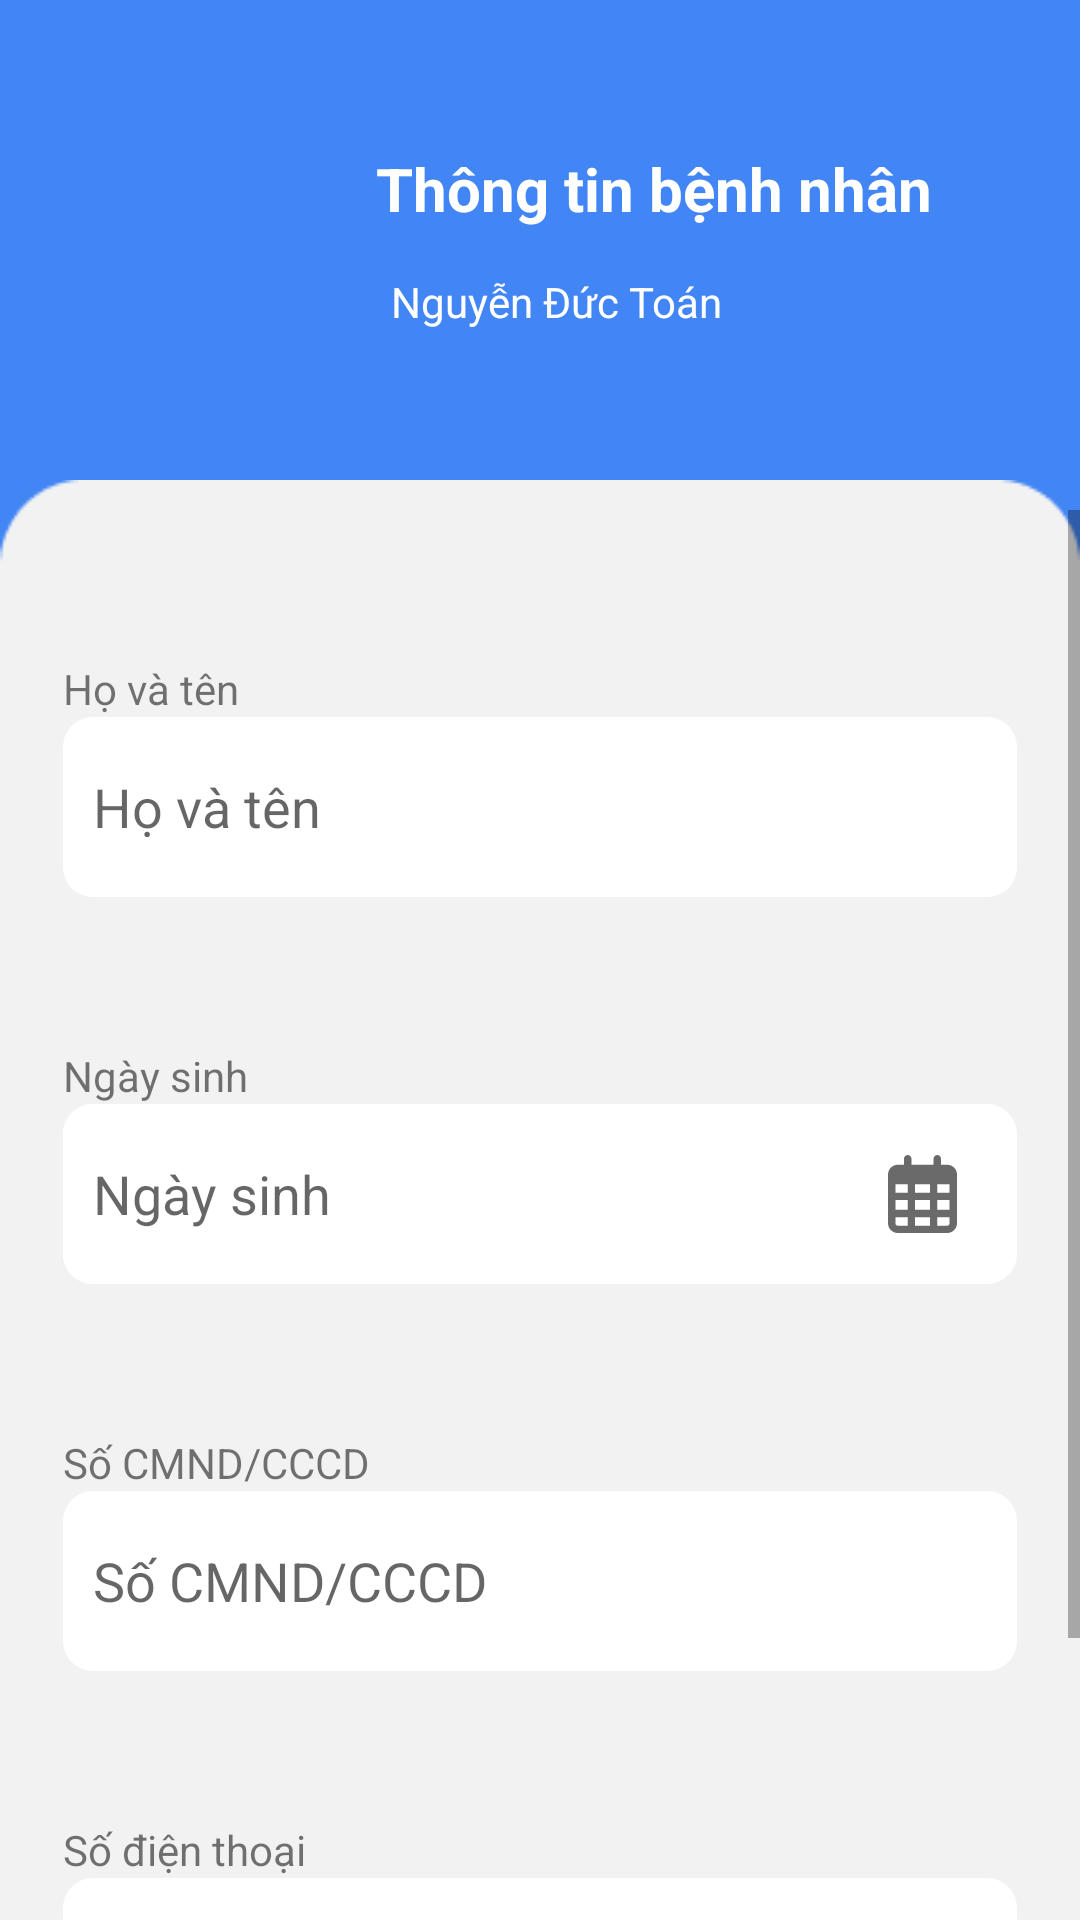

Where icons sit on this 1080x1920 app screen, as (x1, y1, x2, y2):
calendar: (888, 1155, 957, 1233)
